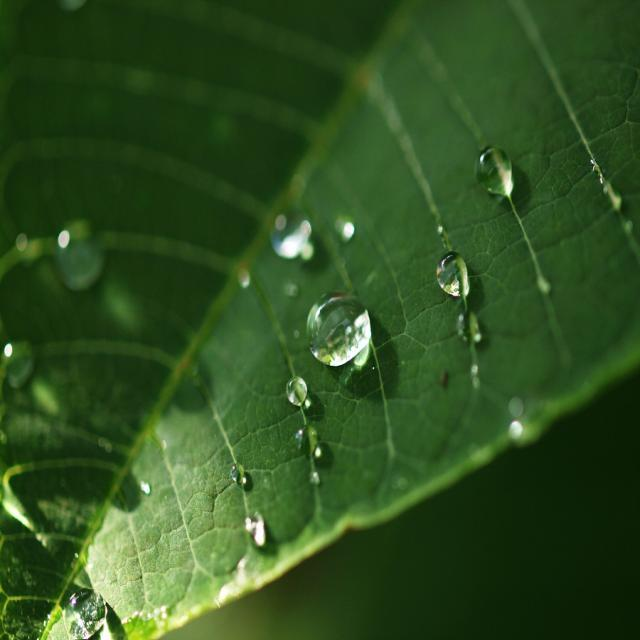raindrop: (293, 282, 382, 389), (426, 246, 482, 322), (259, 203, 317, 272), (474, 136, 520, 205), (120, 576, 124, 584)
